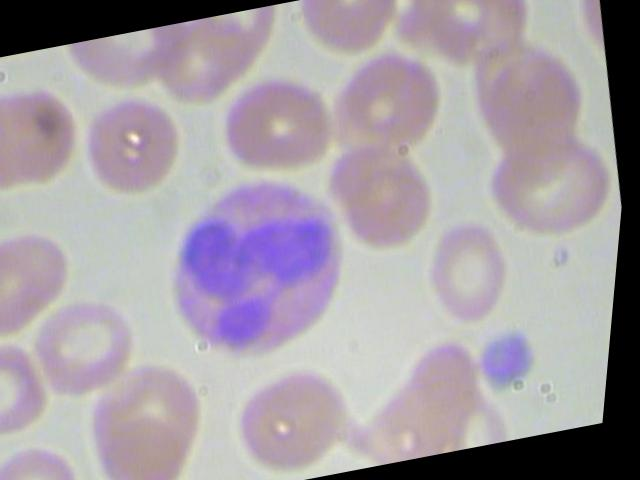Platelets: (470, 322, 558, 395)
Red Blood Cells: (223, 347, 380, 480), (472, 120, 630, 252), (208, 62, 355, 185), (320, 38, 460, 167), (23, 283, 153, 406), (67, 85, 195, 204), (416, 209, 537, 333), (0, 220, 95, 349)
White Blood Cells: (142, 156, 375, 374)
